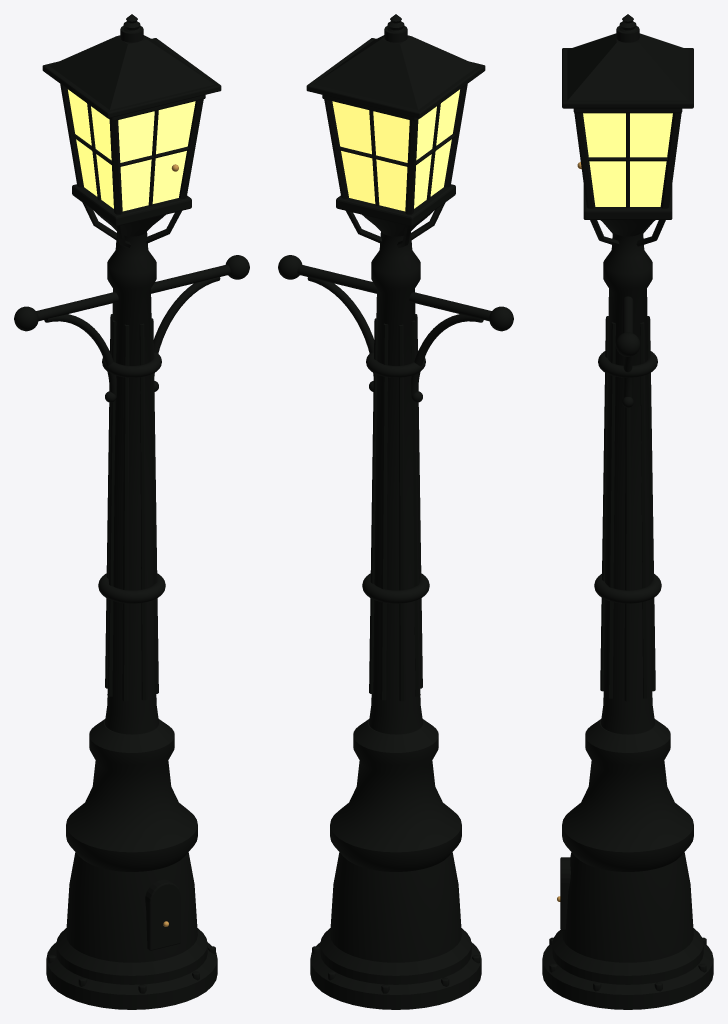
Rendered from gen_street_lamp.mobile-high.glb.
3 renders of one model, left to right at view 1: azimuth 30°, elevation 25°; view 2: azimuth 150°, elevation 25°; view 3: azimuth 270°, elevation 25°, orthographic.
Parts seen in each view (by area): view 1: gen_street_lamp; view 2: gen_street_lamp; view 3: gen_street_lamp.
Boxes of the visible parts, <box> form: gen_street_lamp: <box>14,14,249,1009</box>; gen_street_lamp: <box>278,14,513,1009</box>; gen_street_lamp: <box>542,14,713,1009</box>.
Size of the model in its own units: 0.8146 by 3.21 by 0.52.
1 material, 1 textured.
